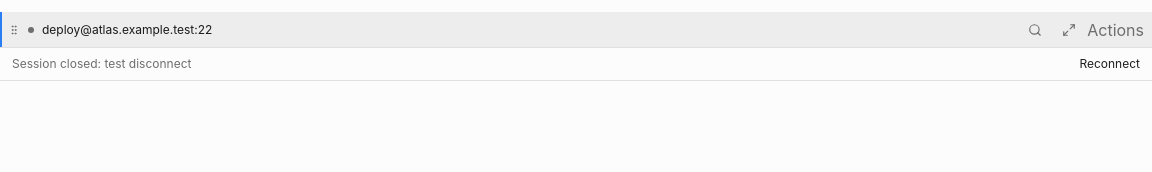
Scenario: TerminalPane session identity › keeps the displayed endpoint tied to the successful session until reconnect succeeds
Check: the header with test id "pane-header" shows "deploy@atlas.example.test:22", box x1=42 y1=22 x2=212 y2=36
Check: the element with test id "pane-header" does not show "ops@new.example.test:2200"
Click the button "Reconnect".
click(1110, 64)  # box x1=1079 y1=56 x2=1140 y2=72
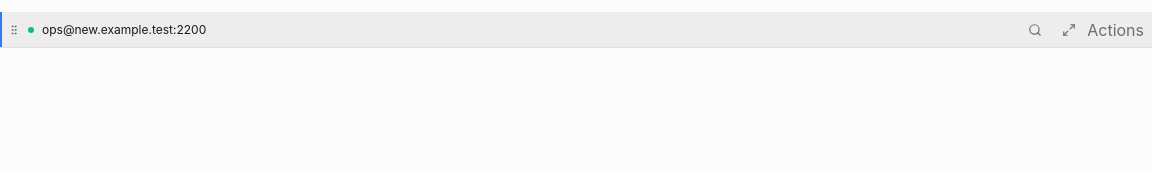
Check: the header with test id "pane-header" shows "ops@new.example.test:2200", box x1=42 y1=22 x2=206 y2=36
